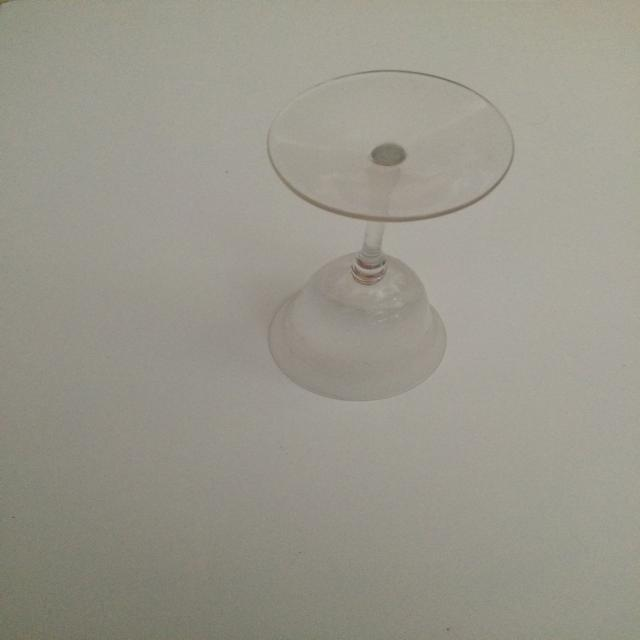glass: (262, 69, 520, 406)
